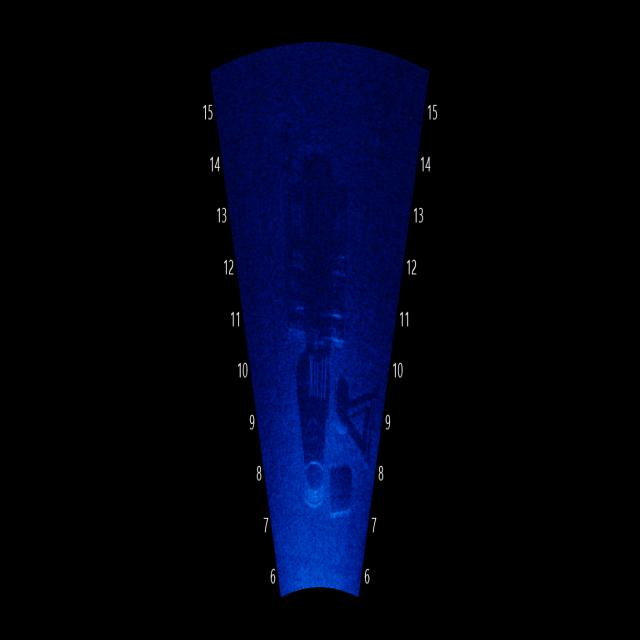circle: (292, 454, 328, 520)
square: (278, 128, 357, 362), (322, 453, 358, 558)
